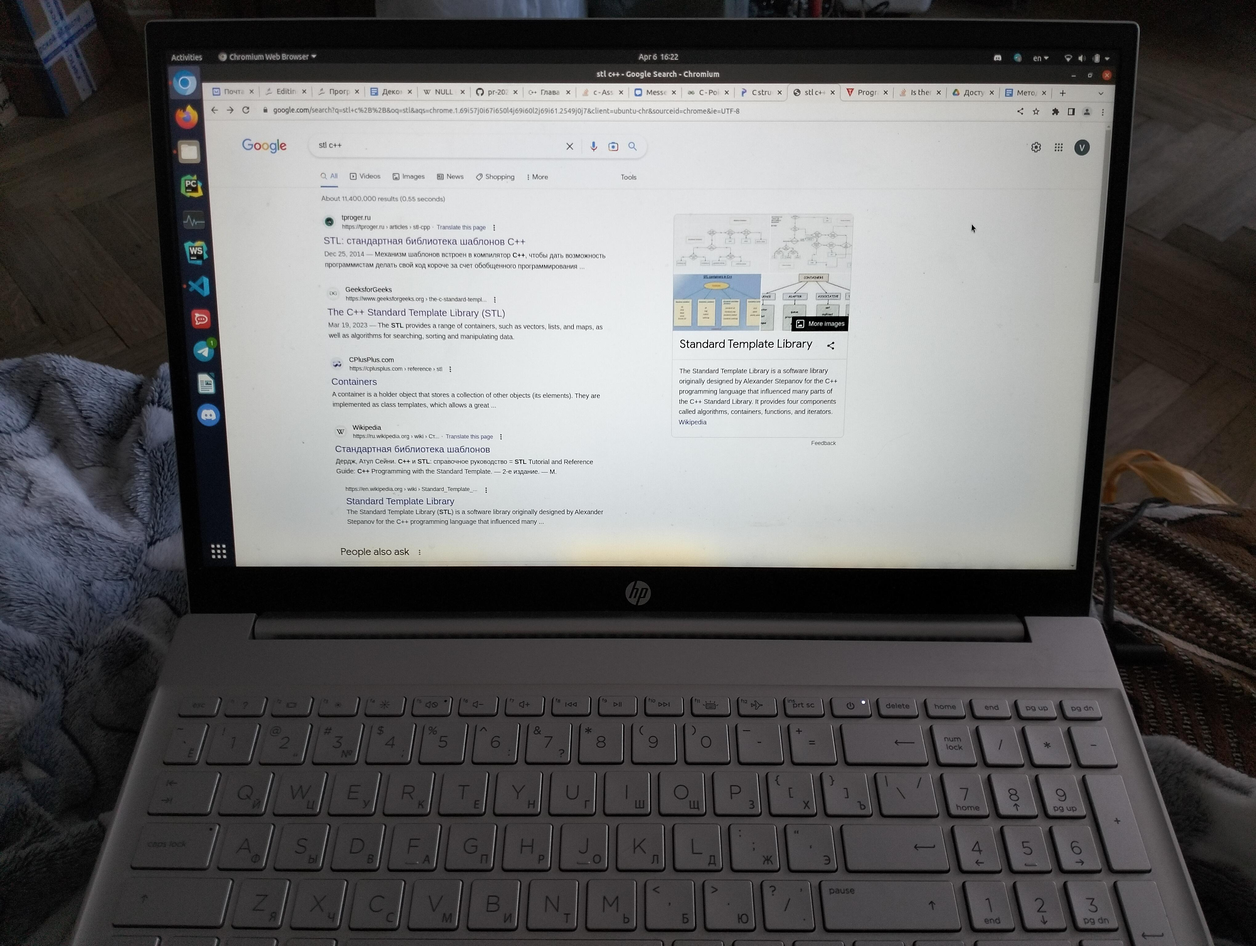monitor: (143, 14, 1144, 614)
